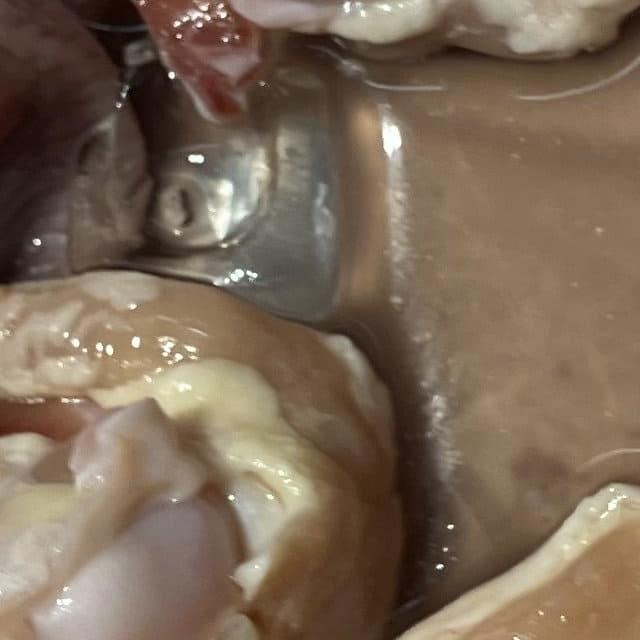chicken: (0, 451, 640, 640), (167, 0, 640, 222)
